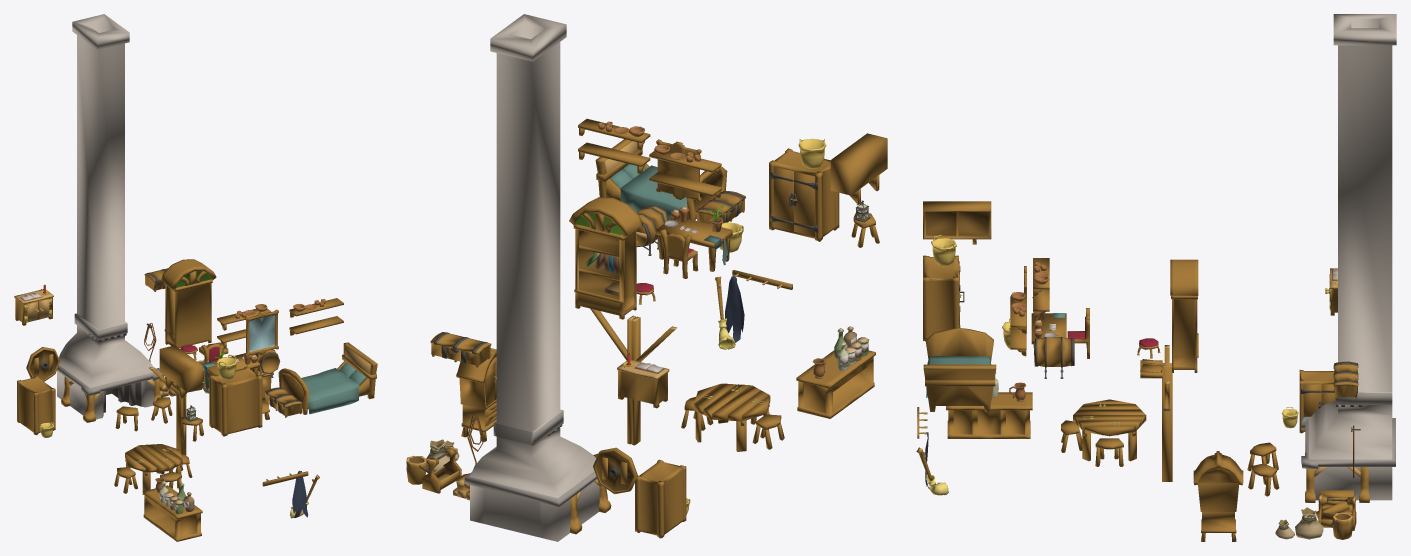
Rendered from house3_interior_floor1.fbx.
3 renders of one model, left to right at view 1: azimuth 30°, elevation 25°; view 2: azimuth 150°, elevation 25°; view 3: azimuth 270°, elevation 25°, orthographic. The views are drawn at different scales.
Visible parts, largest first — view 1: Empty_Mesh, Empty_Mesh_1; view 2: Empty_Mesh, Empty_Mesh_1; view 3: Empty_Mesh, Empty_Mesh_1.
Boxes of the visible parts, x1,y1,x2,y2 form: Empty_Mesh: (17, 14, 319, 541); Empty_Mesh_1: (14, 259, 377, 441); Empty_Mesh: (406, 14, 875, 541); Empty_Mesh_1: (430, 118, 887, 408); Empty_Mesh: (916, 14, 1396, 541); Empty_Mesh_1: (923, 201, 1358, 411).
Bounding box in the file's own units: 32.09 × 57.75 × 54.87.
